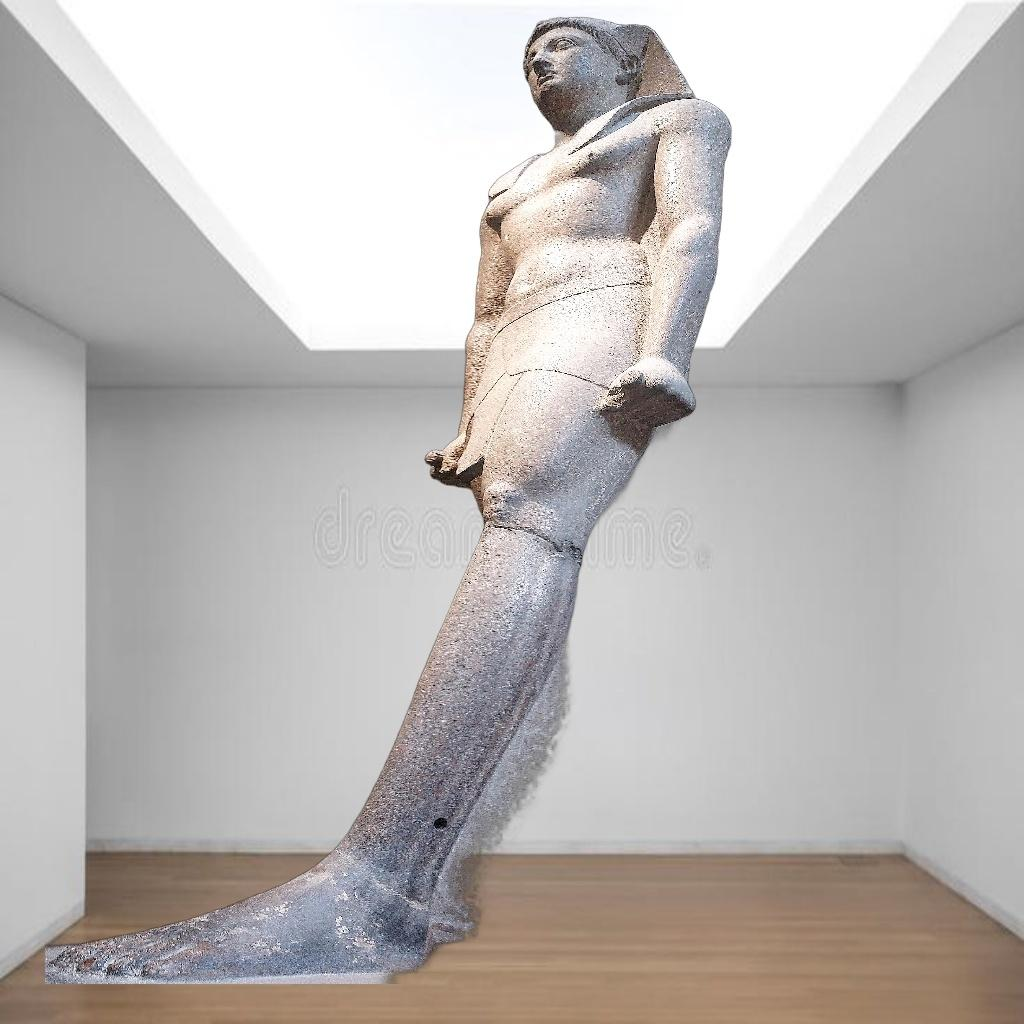Augustus: (45, 15, 734, 984)
